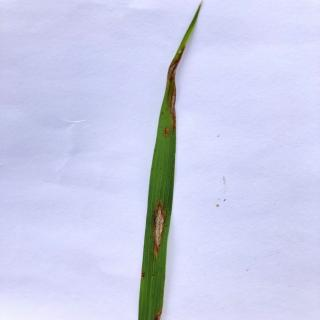Blast: (152, 200, 166, 259), (169, 88, 177, 131), (169, 58, 179, 84), (152, 311, 162, 320), (141, 272, 145, 279)
